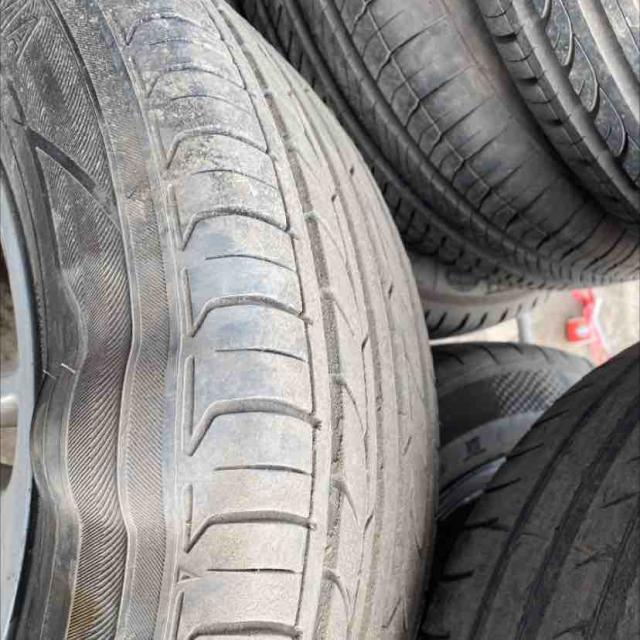Bulge: (20, 337, 248, 543)
